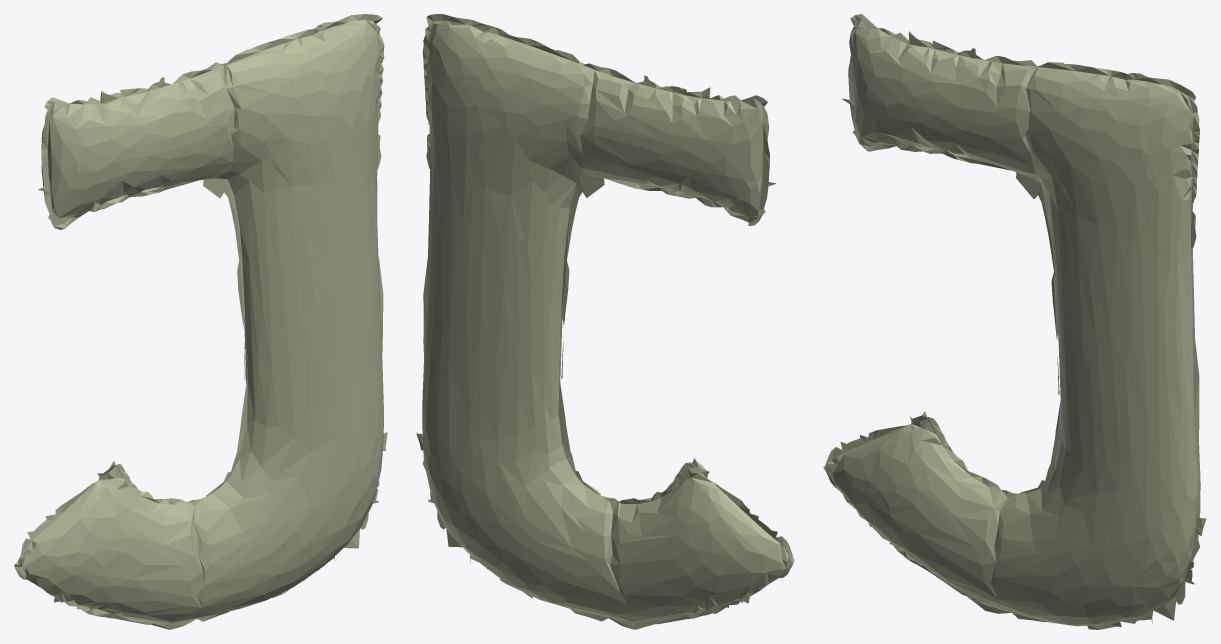
The model's file is tinker.obj.
3 renders of one model, left to right at view 1: azimuth 30°, elevation 25°; view 2: azimuth 150°, elevation 25°; view 3: azimuth 330°, elevation 25°, orthographic.
Visible parts, largest first — view 1: obj_0; view 2: obj_0; view 3: obj_0.
Part boxes in pixels (<box>): obj_0: <box>14,14,387,629</box>; obj_0: <box>416,14,794,629</box>; obj_0: <box>823,14,1206,629</box>.
Bounding box in the file's own units: 11 × 15.94 × 1.76.
